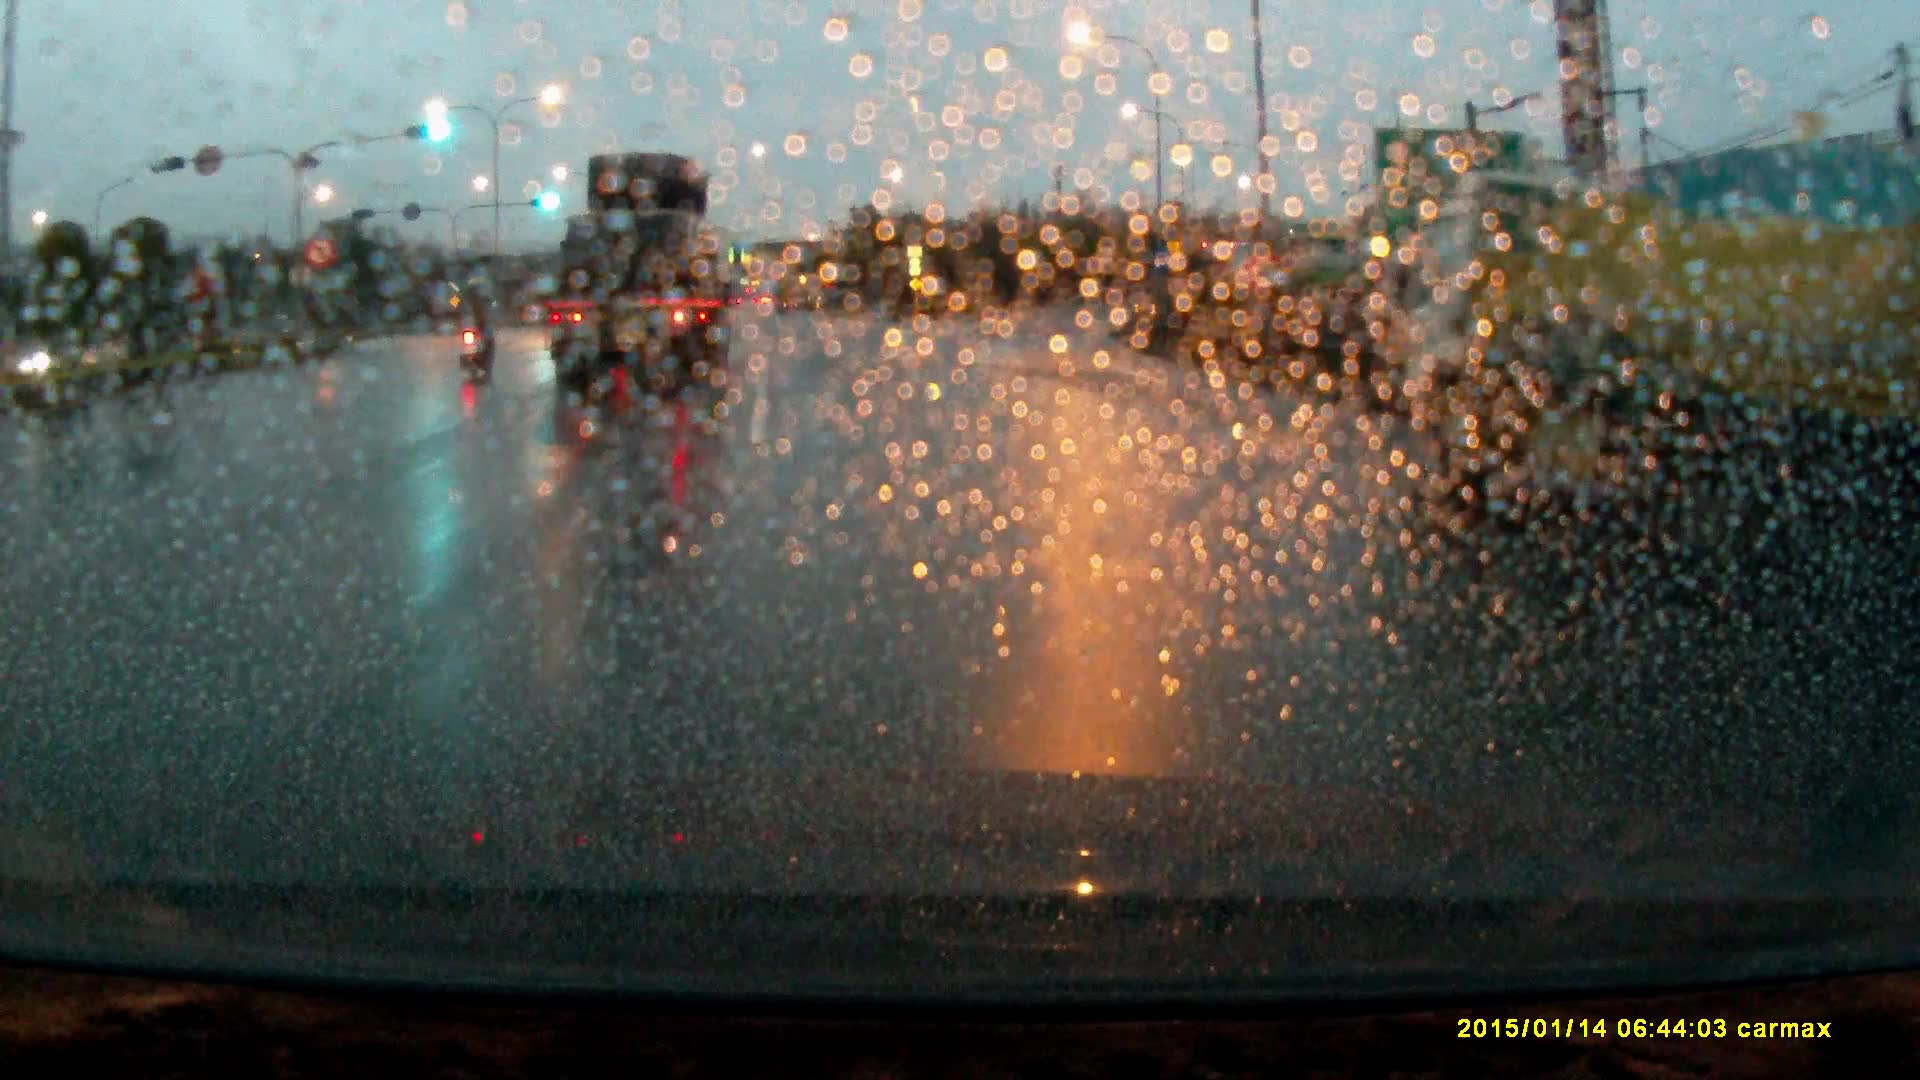rider: (450, 274, 500, 383)
vehicle: (1398, 144, 1920, 569), (543, 153, 734, 406)
